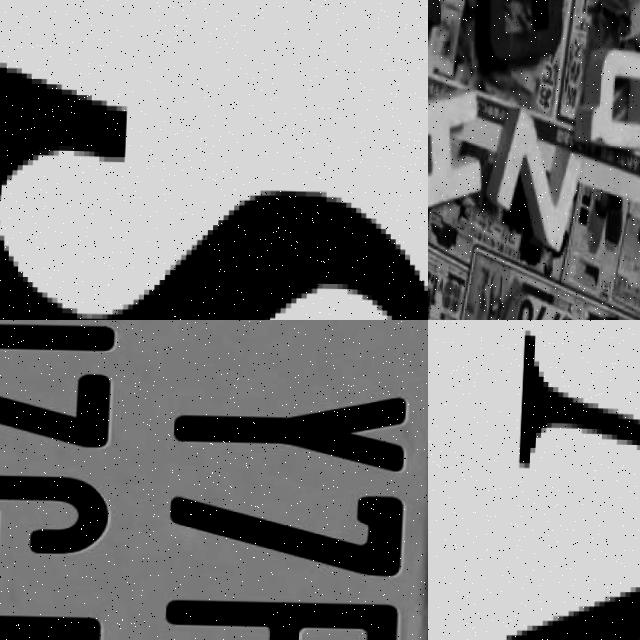7: (169, 488, 406, 578)
D: (477, 0, 565, 71)
G: (0, 468, 111, 556)
H: (428, 79, 491, 210)
N: (498, 323, 640, 640)
P: (164, 595, 405, 640)
Q: (583, 41, 640, 145)
S: (0, 50, 428, 320)
Y: (173, 386, 412, 471)
Z: (495, 102, 587, 248), (0, 366, 116, 450)
